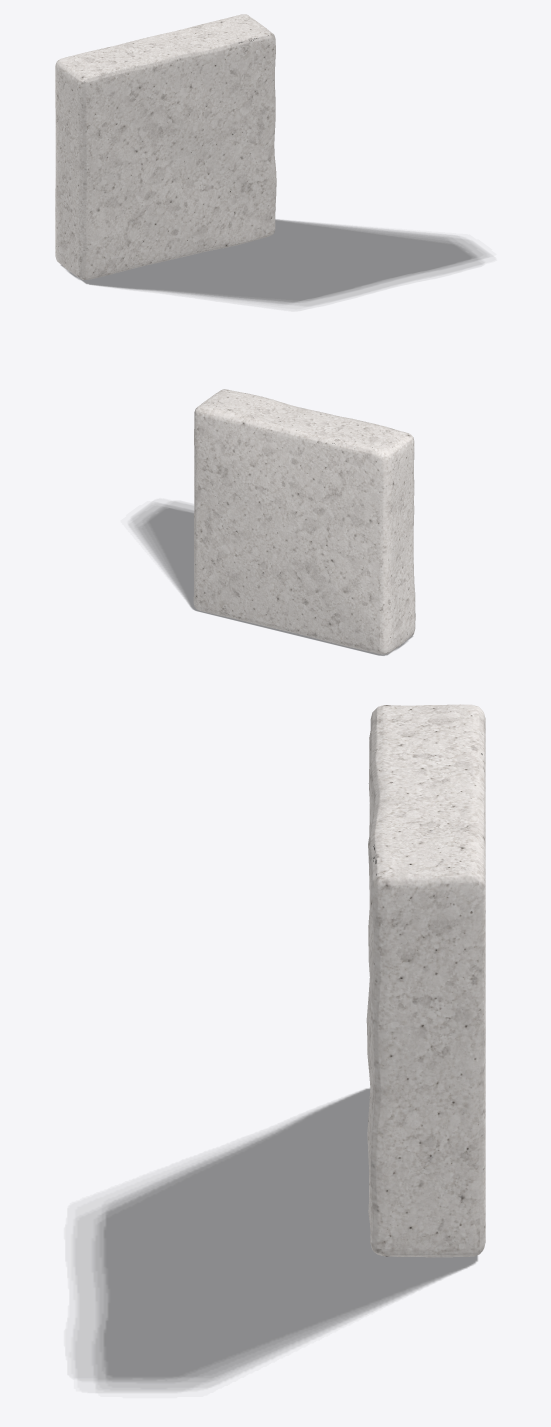
The model's file is tak-upright-white.glb.
3 views of the same model, one above another, from view 1: azimuth 30°, elevation 25°; view 2: azimuth 150°, elevation 25°; view 3: azimuth 270°, elevation 25° (orthographic). The views are drawn at different scales.
Visible parts, largest first — view 1: tak-upright-white, tak-upright-white ground shadow; view 2: tak-upright-white, tak-upright-white ground shadow; view 3: tak-upright-white ground shadow, tak-upright-white.
Part boxes in pixels (left/top/right/bottom): tak-upright-white: left=55, top=14, right=276, bottom=279; tak-upright-white ground shadow: left=61, top=219, right=488, bottom=306; tak-upright-white: left=193, top=389, right=415, bottom=654; tak-upright-white ground shadow: left=130, top=502, right=412, bottom=655; tak-upright-white ground shadow: left=74, top=1088, right=477, bottom=1390; tak-upright-white: left=366, top=704, right=485, bottom=1257.
Size of the model in its own units: 0.0552 by 0.0283 by 0.0347.
2 materials, 2 textured.
